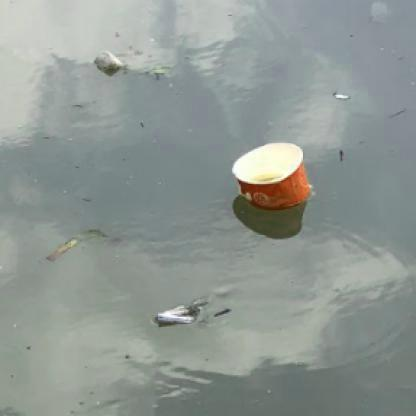Plastic: (229, 139, 311, 209)
